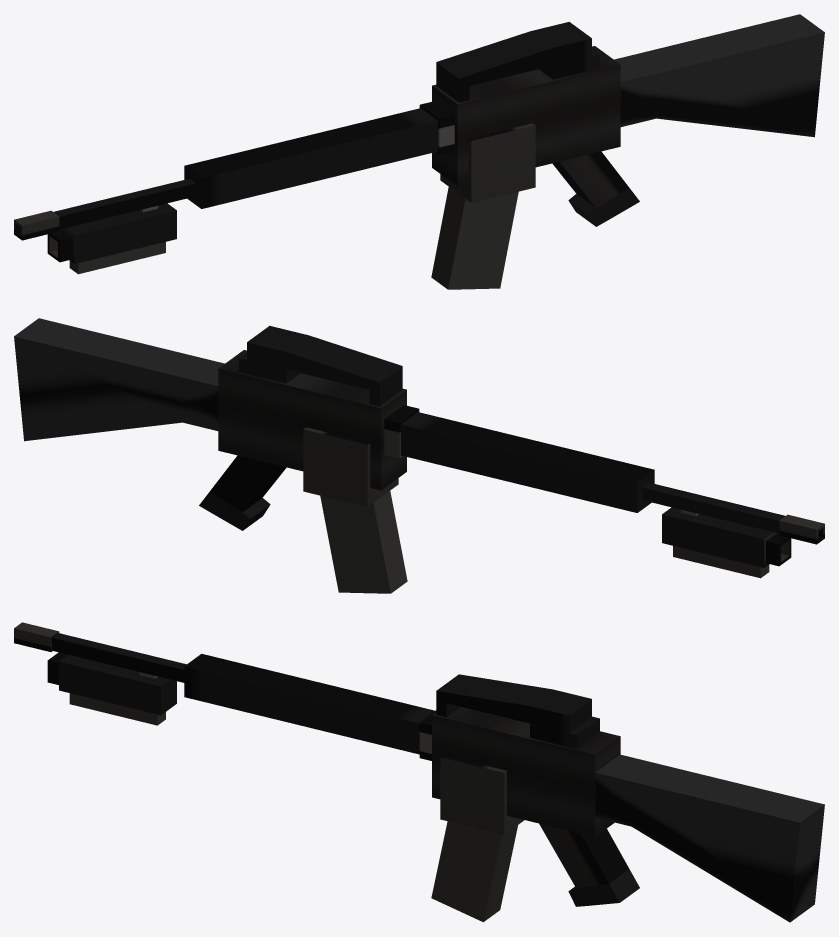
Rendered from CubeRifle.fbx.
The picture shows the model from 3 angles, top to bottom: view 1: azimuth 30°, elevation 25°; view 2: azimuth 150°, elevation 25°; view 3: azimuth 330°, elevation 25°; orthographic projection.
Visible parts, largest first — view 1: CubeRifle; view 2: CubeRifle; view 3: CubeRifle.
Boxes of the visible parts, x1,y1,x2,y2 form: CubeRifle: [14, 14, 824, 289]; CubeRifle: [14, 318, 824, 593]; CubeRifle: [14, 622, 824, 922].
Size of the model in its own units: 965 by 268 by 65.79.
